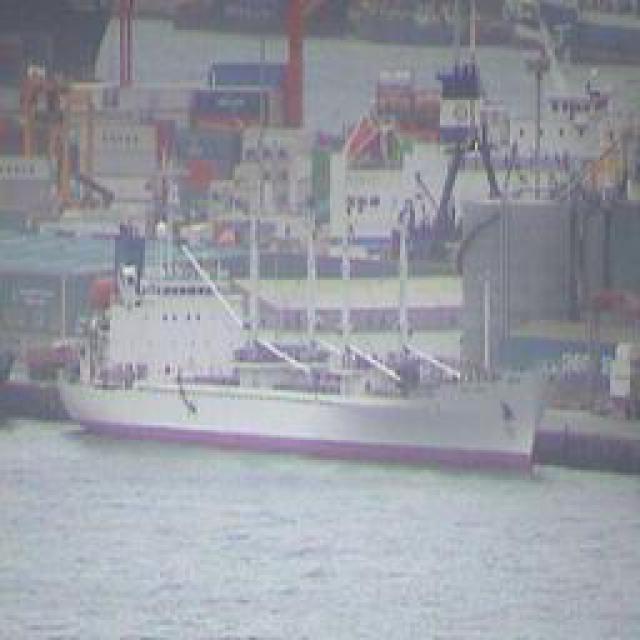Ship: (55, 368, 563, 453)
